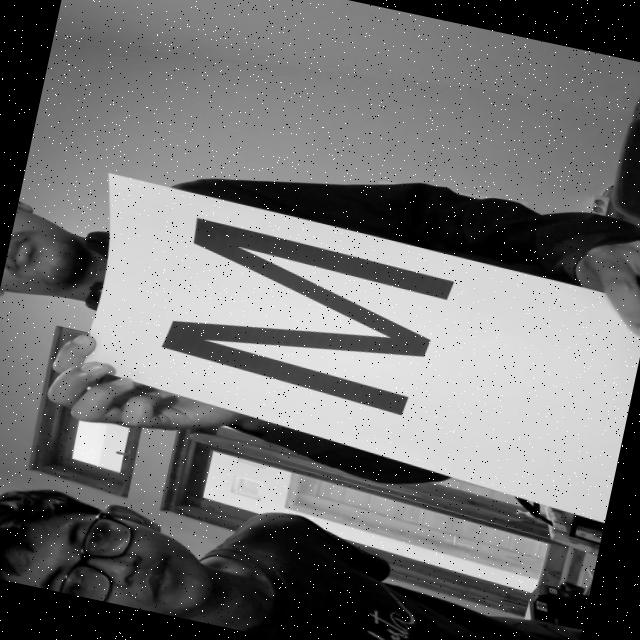m: (134, 202, 492, 440)
